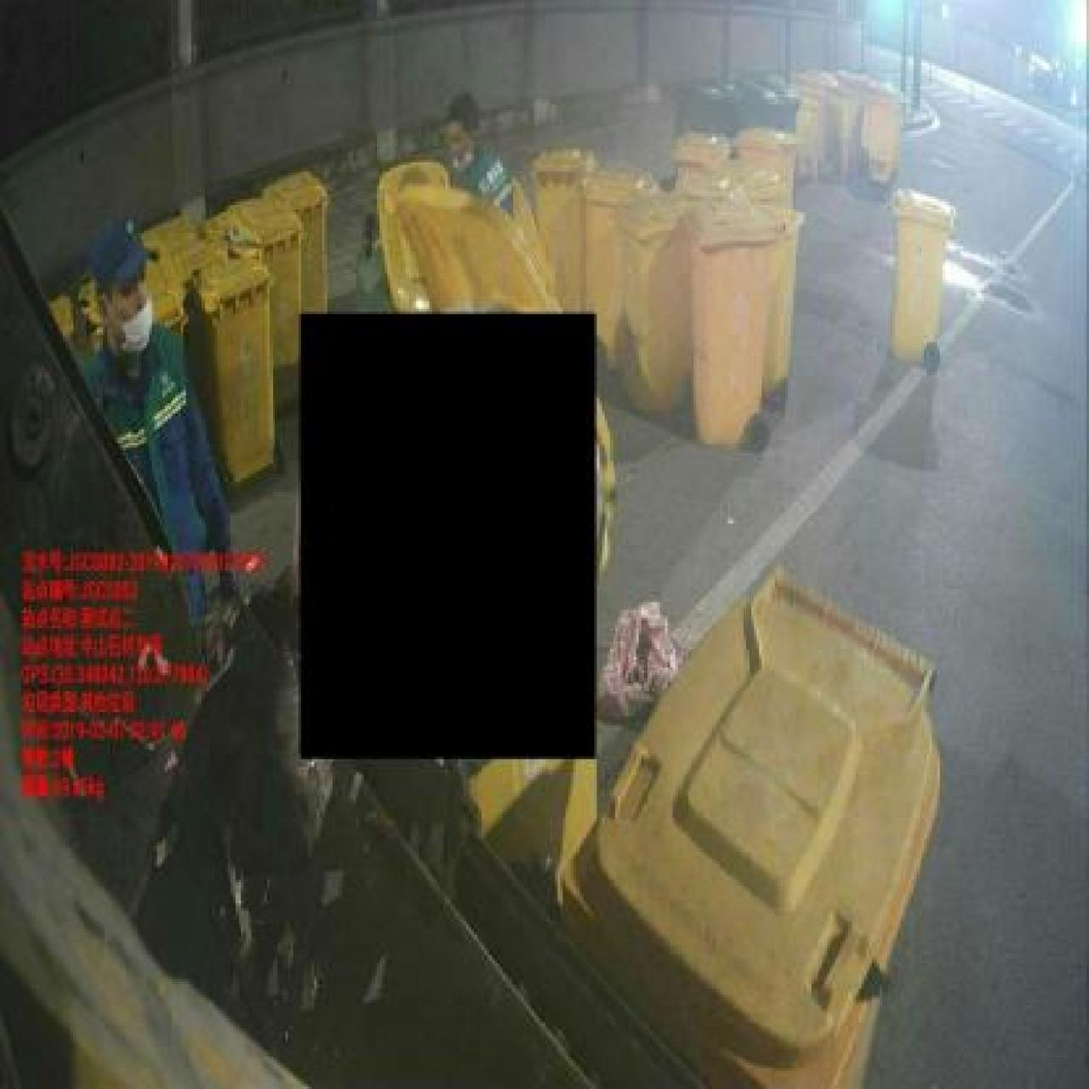bin_empty: (562, 568, 939, 1088), (690, 192, 782, 447), (187, 243, 273, 485), (206, 196, 304, 407), (892, 189, 955, 369), (533, 148, 596, 310), (861, 79, 902, 187)
